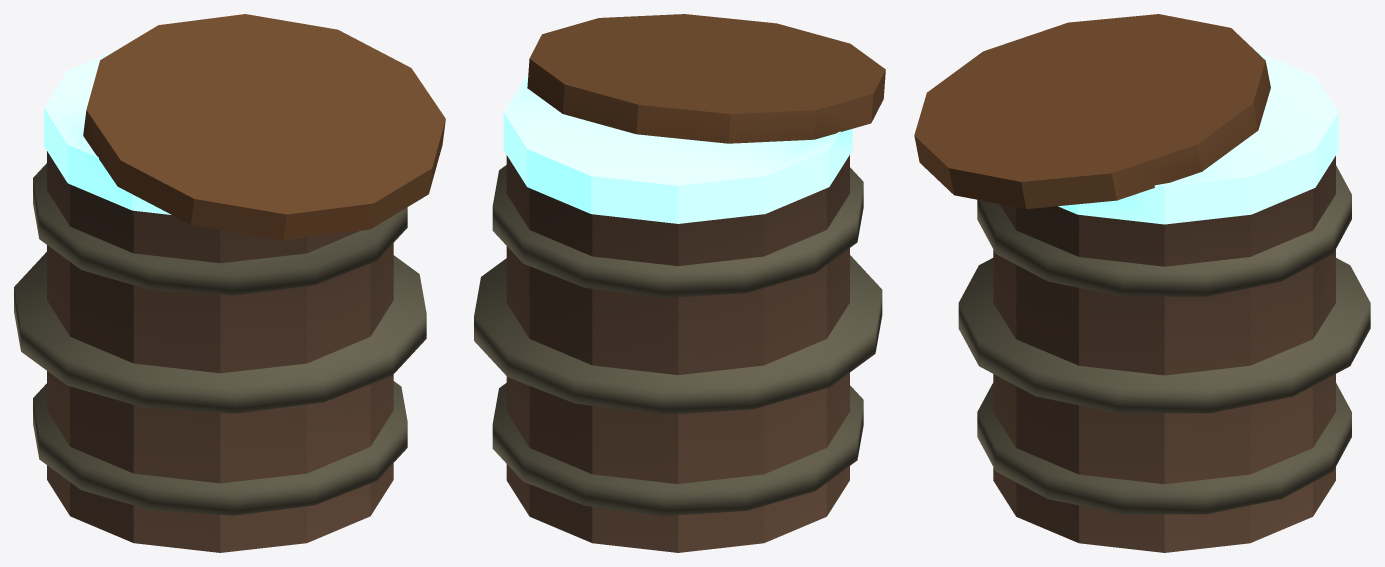
File: barrel_caught.glb
3 views of the same model, side by side, from view 1: azimuth 30°, elevation 25°; view 2: azimuth 150°, elevation 25°; view 3: azimuth 270°, elevation 25° (orthographic).
Parts seen in each view (by area): view 1: barrel_caught; view 2: barrel_caught; view 3: barrel_caught.
Boxes of the visible parts, x1,y1,x2,y2 form: barrel_caught: [14, 14, 445, 552]; barrel_caught: [474, 14, 885, 552]; barrel_caught: [914, 14, 1370, 552].
Size of the model in its own units: 0.5745 by 0.6542 by 0.6525.
